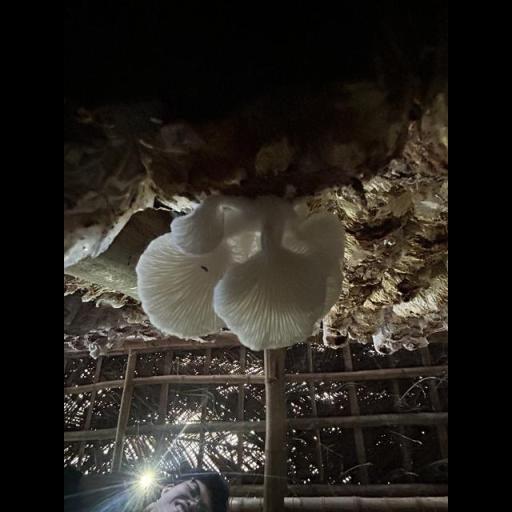White Oyster Mushroom: (129, 190, 359, 361)
